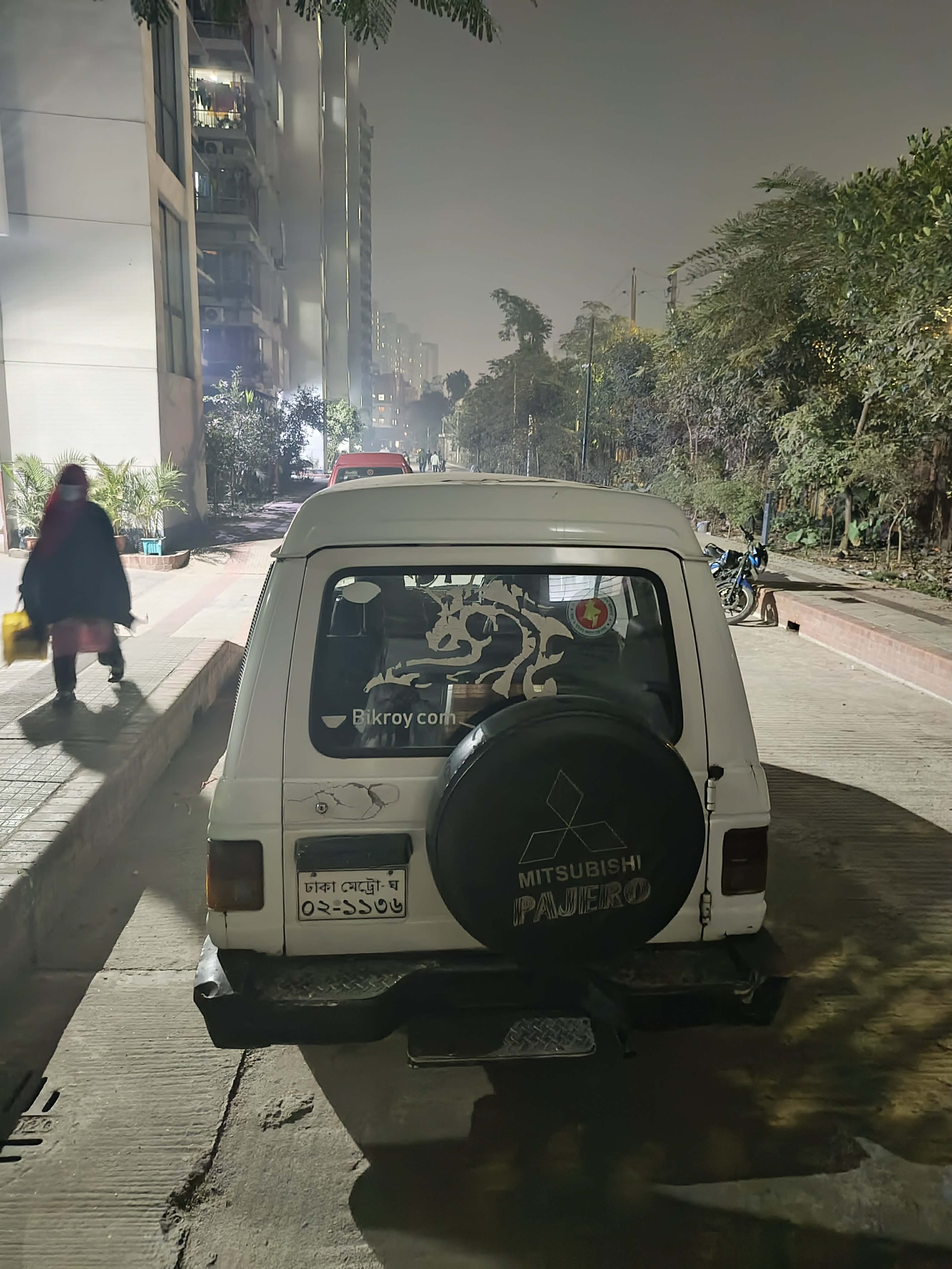private car: (166, 444, 818, 1072)
